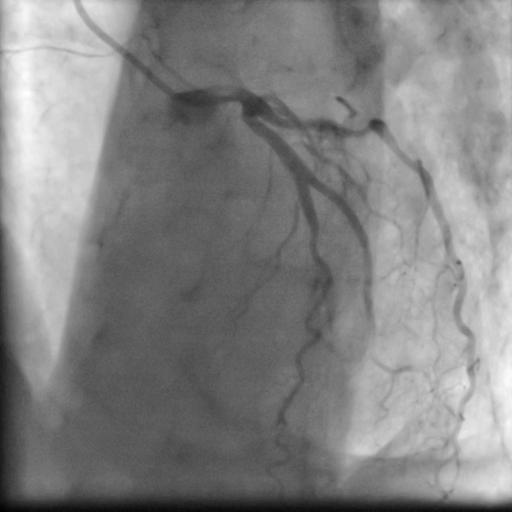Stenosis: (340, 117, 375, 143)
